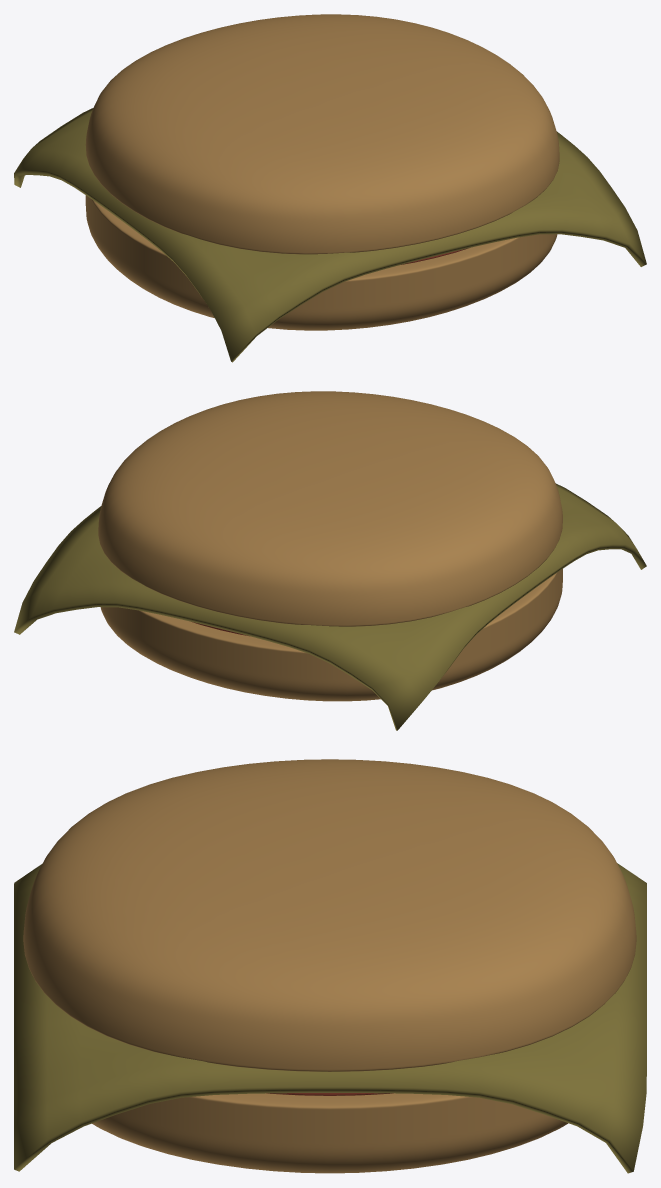
Rendered from humberger.glb.
The picture shows the model from 3 angles, top to bottom: view 1: azimuth 30°, elevation 25°; view 2: azimuth 150°, elevation 25°; view 3: azimuth 270°, elevation 25°; orthographic projection. The views are drawn at different scales.
Parts seen in each view (by area): view 1: Cube.002, Plane, Cube; view 2: Cube.002, Plane, Cube; view 3: Cube.002, Plane, Cube.
Boxes of the visible parts, bbox=[...] form: Cube.002: bbox=[85, 14, 559, 254]; Plane: bbox=[14, 108, 646, 362]; Cube: bbox=[85, 195, 557, 330]; Cube.002: bbox=[98, 391, 562, 626]; Plane: bbox=[14, 483, 646, 730]; Cube: bbox=[100, 569, 562, 701]; Cube.002: bbox=[23, 759, 636, 1071]; Plane: bbox=[14, 863, 646, 1173]; Cube: bbox=[92, 1093, 568, 1173].
Bounding box in the file's own units: 9.46 × 3.9 × 9.46.
